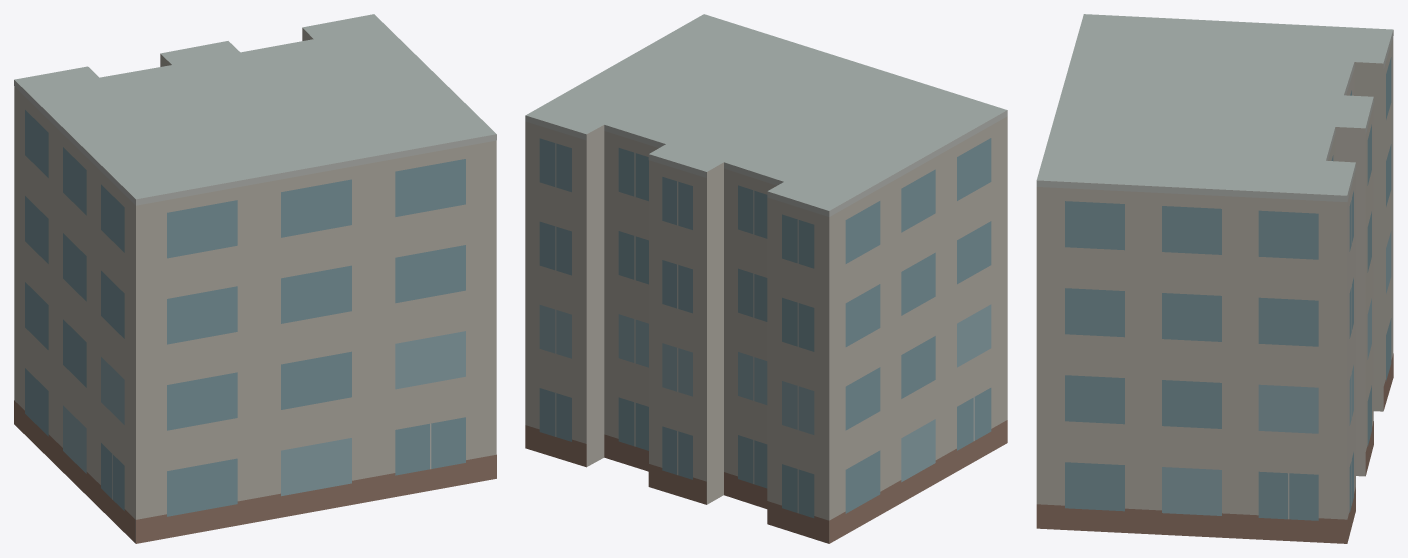
Rendered from survey-upis-32941758.glb.
The picture shows the model from 3 angles, left to right: view 1: azimuth 30°, elevation 25°; view 2: azimuth 150°, elevation 25°; view 3: azimuth 270°, elevation 25°; orthographic projection. The views are drawn at different scales.
Visible parts, largest first — view 1: survey-upis-32941758.tmp; view 2: survey-upis-32941758.tmp; view 3: survey-upis-32941758.tmp.
Boxes of the visible parts, x1=… form: survey-upis-32941758.tmp: x1=14, y1=14, x2=496, y2=543; survey-upis-32941758.tmp: x1=525, y1=14, x2=1007, y2=543; survey-upis-32941758.tmp: x1=1036, y1=14, x2=1393, y2=543.
Bounding box in the file's own units: 14.85 × 13.25 × 12.32.
